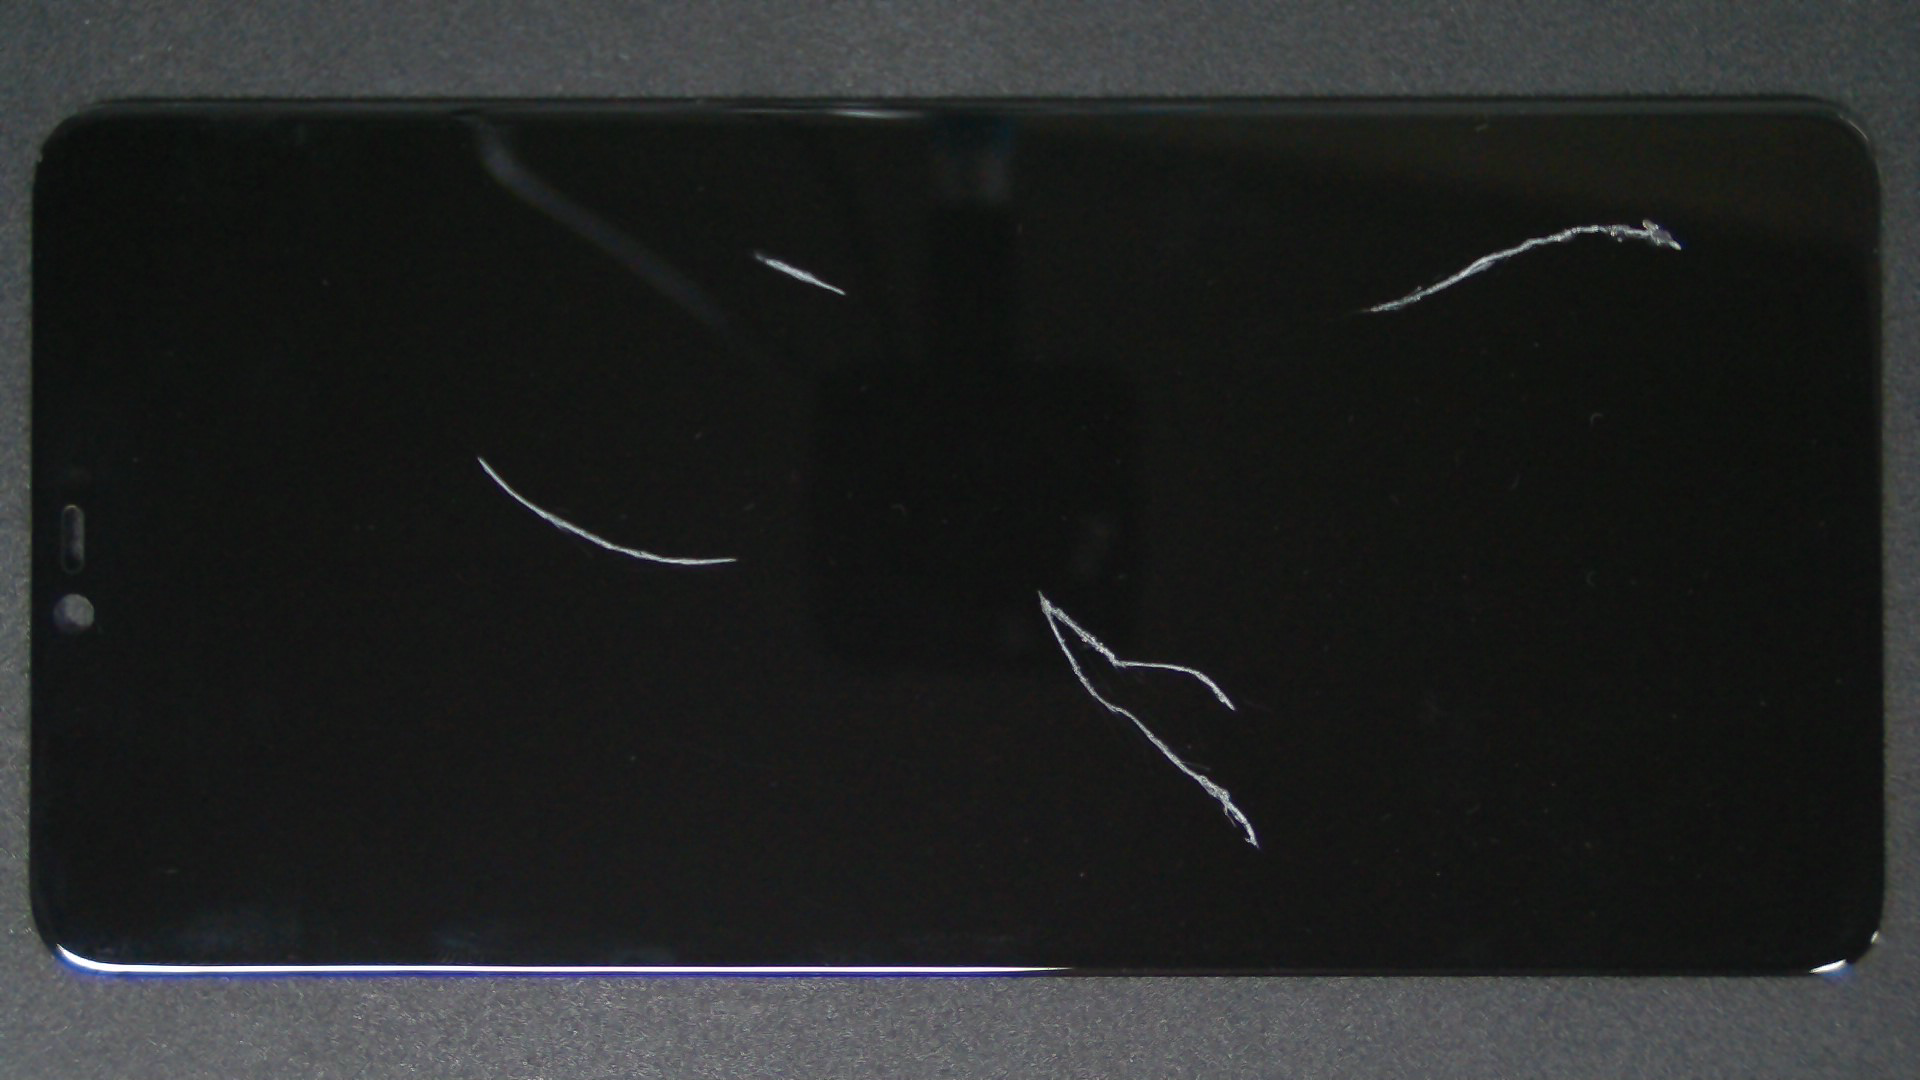defect: (1036, 589, 1259, 849), (1366, 218, 1683, 313), (476, 456, 738, 564), (754, 252, 845, 295)
